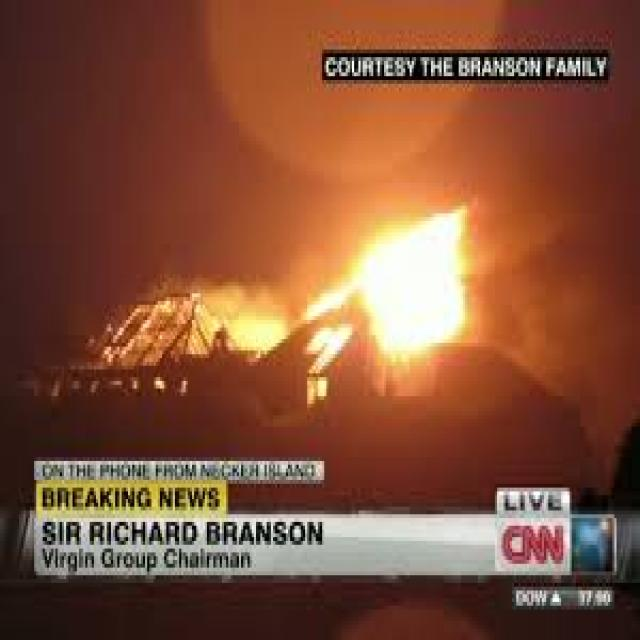Fire: (64, 181, 512, 407)
